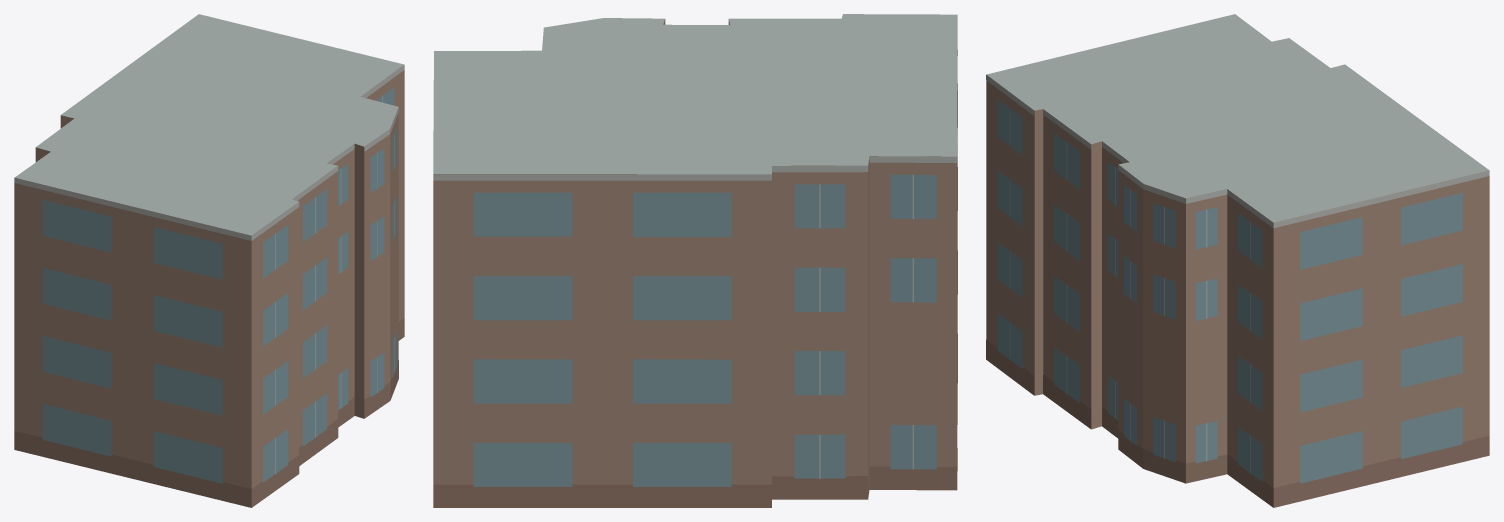
Rendered from survey-upis-32924077.glb.
3 renders of one model, left to right at view 1: azimuth 30°, elevation 25°; view 2: azimuth 150°, elevation 25°; view 3: azimuth 270°, elevation 25°, orthographic. The views are drawn at different scales.
Visible parts, largest first — view 1: survey-upis-32924077.tmp; view 2: survey-upis-32924077.tmp; view 3: survey-upis-32924077.tmp.
Part boxes in pixels (box(x1,y1,x2,y2)): survey-upis-32924077.tmp: box(14, 14, 404, 507); survey-upis-32924077.tmp: box(433, 14, 957, 507); survey-upis-32924077.tmp: box(986, 14, 1489, 507).
Bounding box in the file's own units: 19.71 × 12.55 × 20.09.
